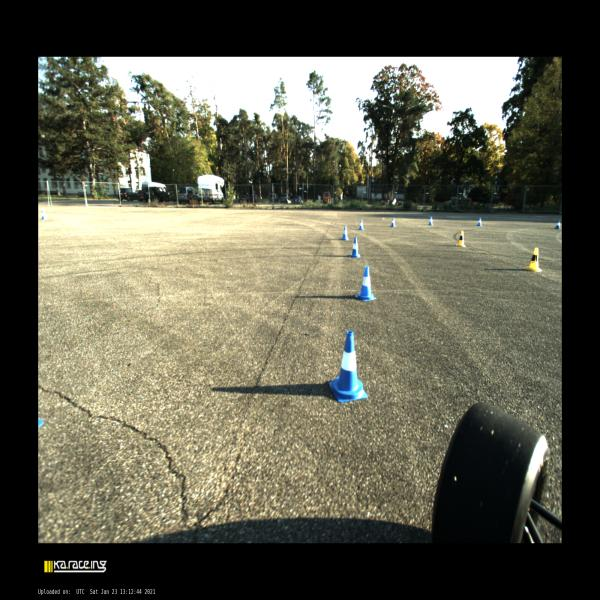blue_cone: (328, 331, 369, 404), (354, 266, 376, 301), (348, 236, 360, 258), (341, 225, 349, 240), (554, 219, 562, 230), (358, 218, 364, 230), (41, 209, 47, 220), (476, 217, 483, 226), (390, 217, 396, 227), (428, 216, 433, 225)
yellow_cone: (525, 246, 543, 272), (456, 231, 466, 247)
